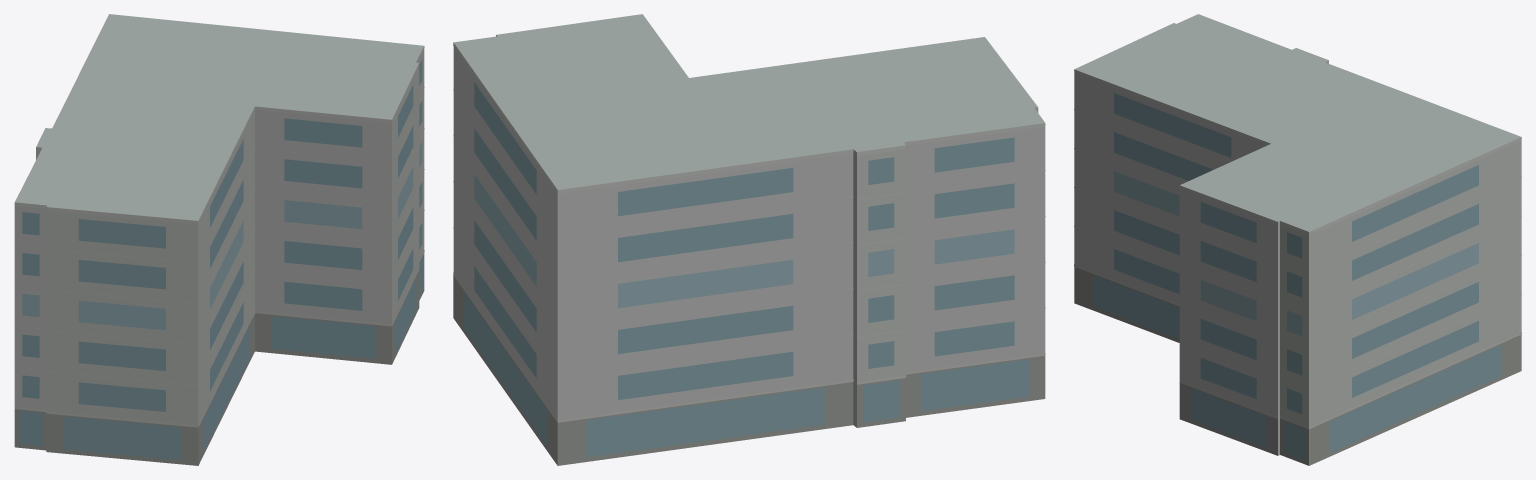
Rendered from survey-upis-32523626.glb.
The picture shows the model from 3 angles, left to right: view 1: azimuth 30°, elevation 25°; view 2: azimuth 150°, elevation 25°; view 3: azimuth 270°, elevation 25°; orthographic projection. The views are drawn at different scales.
Parts seen in each view (by area): view 1: survey-upis-32523626.tmp; view 2: survey-upis-32523626.tmp; view 3: survey-upis-32523626.tmp.
Boxes of the visible parts, x1,y1,x2,y2 form: survey-upis-32523626.tmp: (14,14,424,465); survey-upis-32523626.tmp: (453,14,1045,465); survey-upis-32523626.tmp: (1074,14,1521,465).
Bounding box in the file's own units: 32.68 × 16.35 × 28.36.
